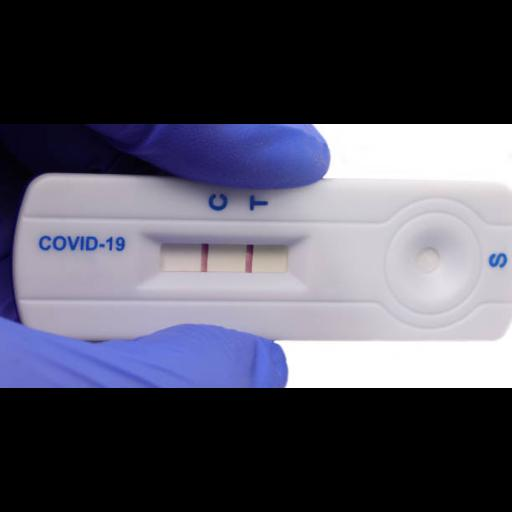Pos: (16, 172, 510, 336)
